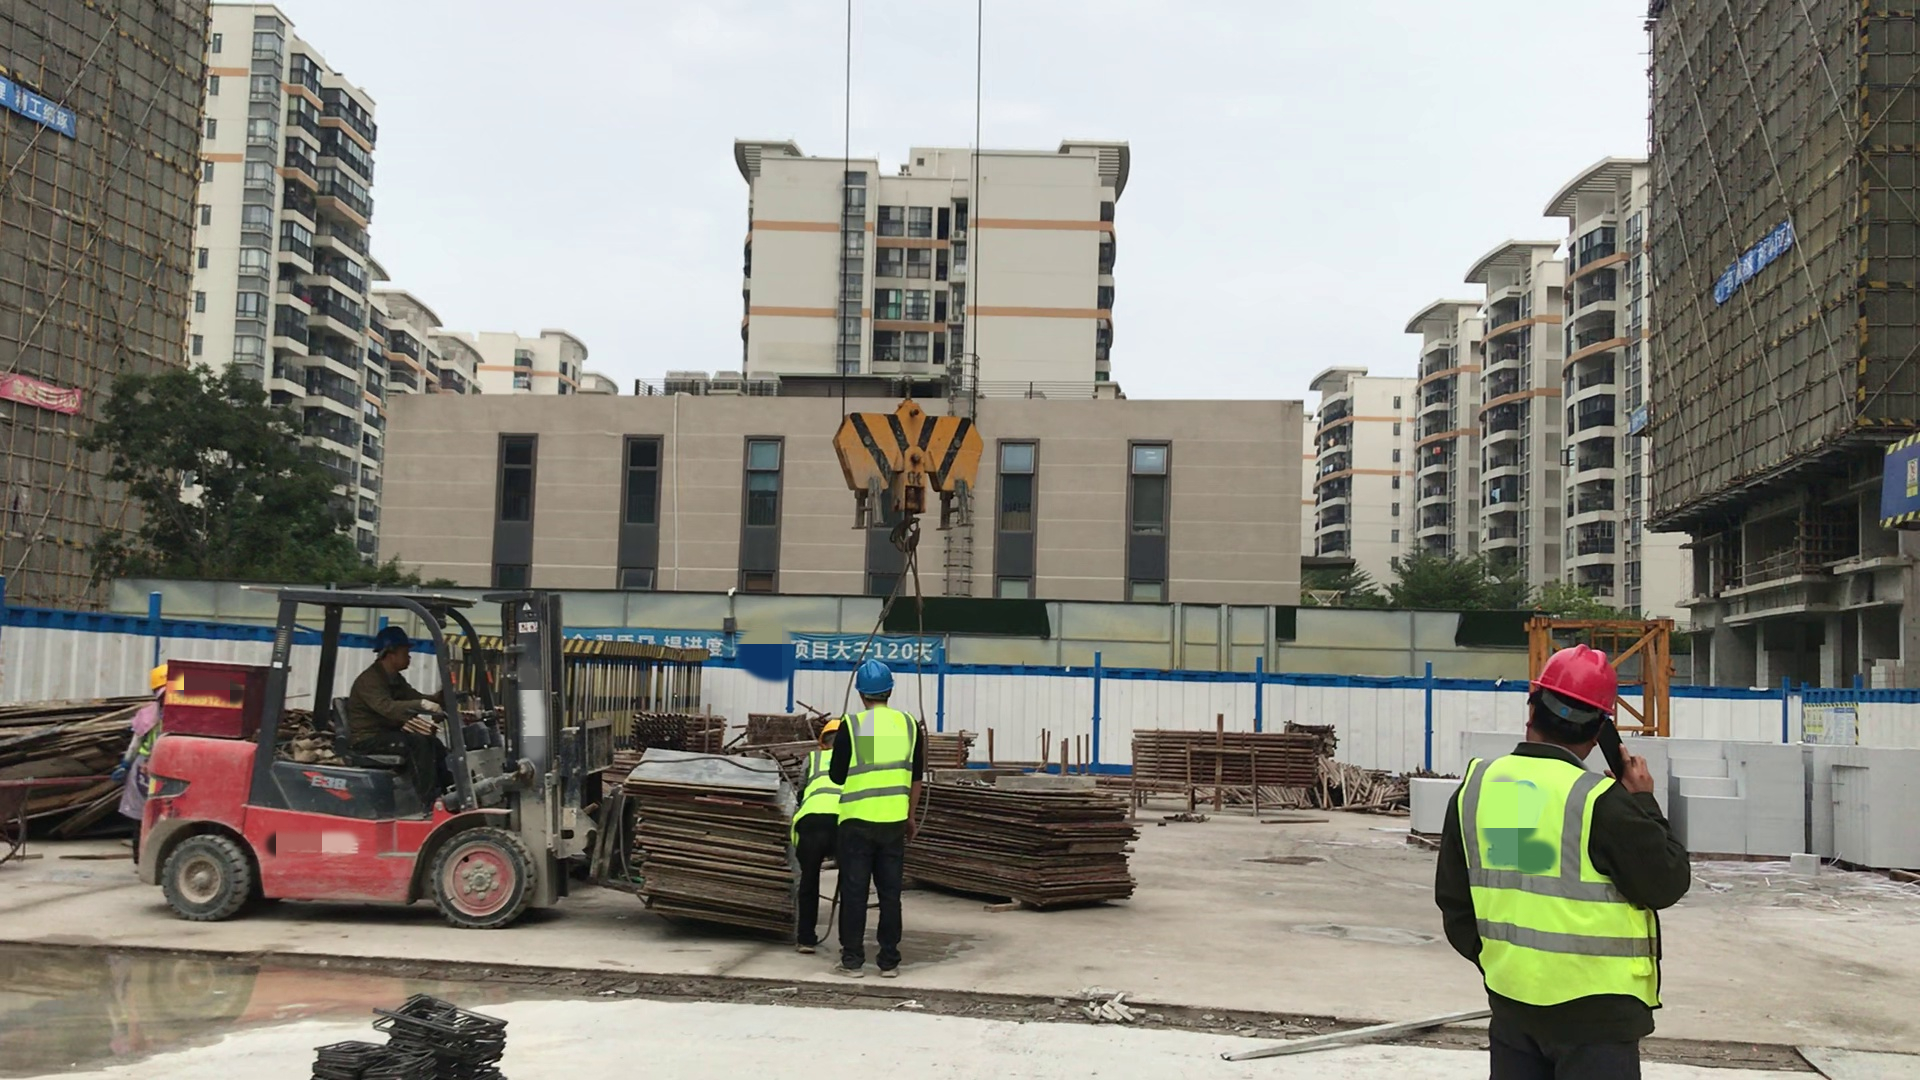board: (632, 749, 793, 931), (916, 780, 1136, 905)
brick: (1677, 746, 1920, 875), (1412, 769, 1470, 857)
helmet: (1528, 643, 1617, 719), (854, 658, 893, 697), (370, 627, 411, 653), (821, 719, 846, 741)
hook: (831, 392, 988, 556)
person: (1444, 642, 1680, 1080), (844, 660, 917, 977), (361, 626, 447, 801), (793, 716, 844, 954)
scaffold: (1134, 729, 1317, 791), (629, 713, 726, 753), (924, 729, 973, 766)
slogan: (563, 626, 933, 673), (1721, 224, 1788, 306), (4, 74, 73, 131), (5, 369, 86, 415), (1894, 457, 1920, 503)
vest: (1461, 758, 1659, 1011), (846, 712, 913, 823), (800, 741, 852, 827)
